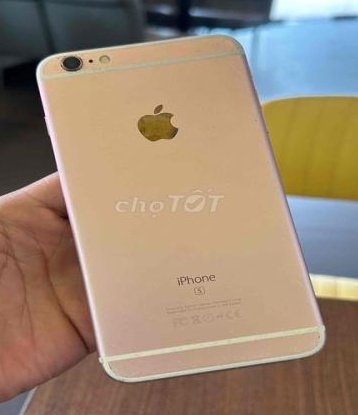scratch: (96, 355, 170, 398), (297, 320, 358, 371), (197, 30, 255, 71), (55, 52, 112, 85)
